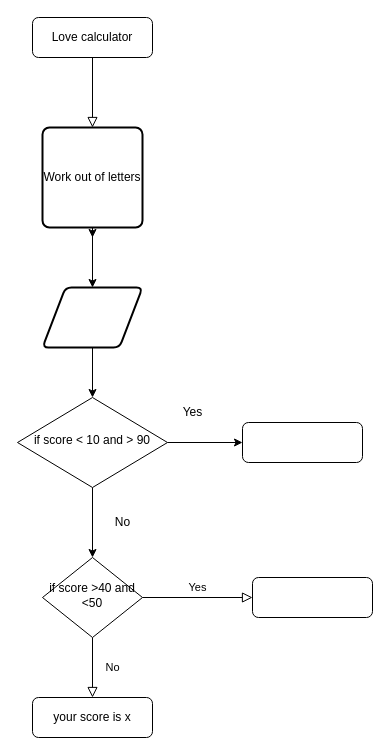
Image size: 390x755. Some labels were removed from this diagram. The box of each missing label's shape, as (x1, y1, x2, y2) in pixels:
score: (41, 286, 143, 348)
You alright together: (252, 576, 372, 618)
you can go together like coke and mentos: (242, 422, 362, 462)
